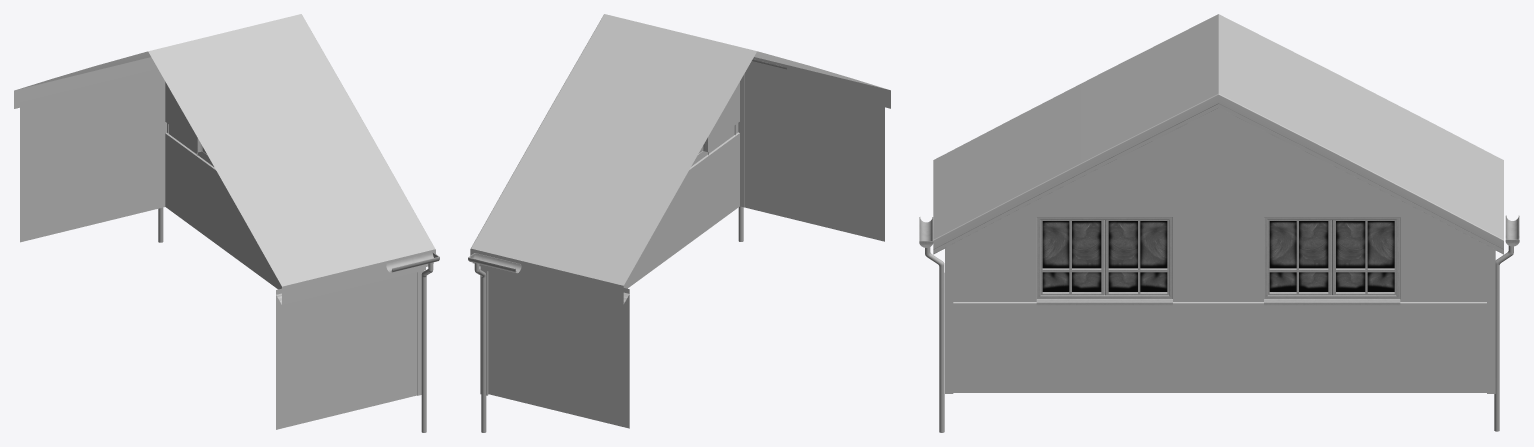
File: SM_House_Wall.fbx
The picture shows the model from 3 angles, left to right: view 1: azimuth 30°, elevation 25°; view 2: azimuth 150°, elevation 25°; view 3: azimuth 270°, elevation 25°; orthographic projection. The views are drawn at different scales.
Visible parts, largest first — view 1: SM_House_Wall_LOD0; view 2: SM_House_Wall_LOD0; view 3: SM_House_Wall_LOD0.
Boxes of the visible parts, box(x1,y1,x2,y2) form: SM_House_Wall_LOD0: box(14, 14, 439, 432); SM_House_Wall_LOD0: box(468, 14, 890, 432); SM_House_Wall_LOD0: box(919, 14, 1519, 432).
Bounding box in the file's own units: 416 × 1321 × 830.
